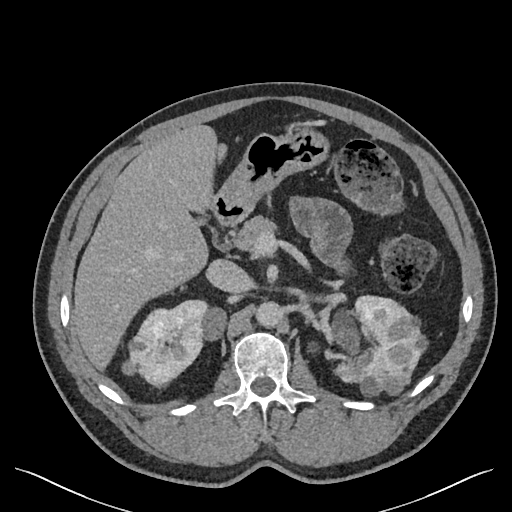Lesion: (386, 315, 423, 344)
